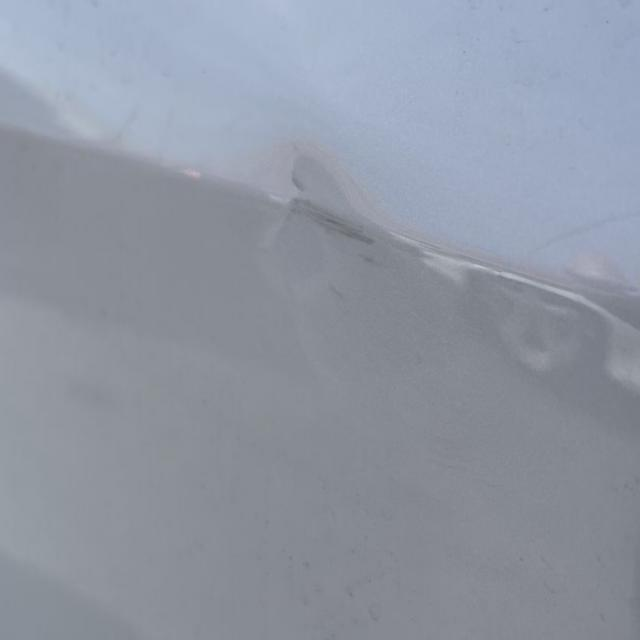dents: (259, 128, 461, 316)
